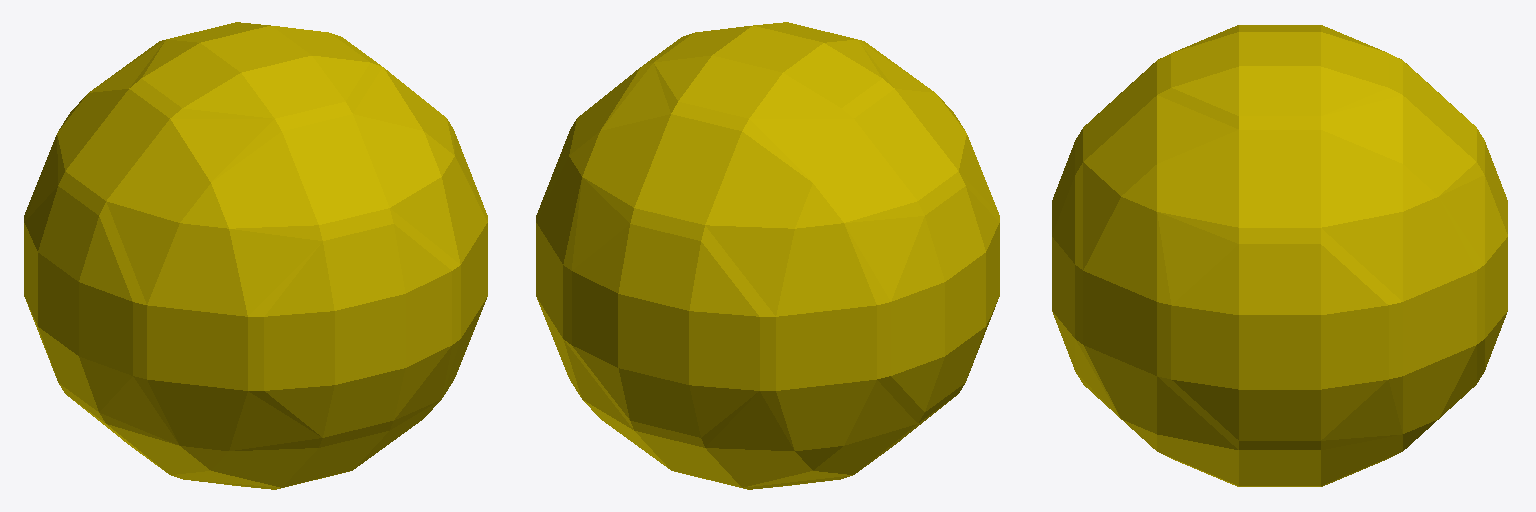
3 renders of one model, left to right at view 1: azimuth 30°, elevation 25°; view 2: azimuth 150°, elevation 25°; view 3: azimuth 270°, elevation 25°, orthographic.
Parts seen in each view (by area): view 1: Mball; view 2: Mball; view 3: Mball.
Part boxes in pixels (bbox=[...]): Mball: bbox=[24, 22, 487, 489]; Mball: bbox=[536, 22, 999, 489]; Mball: bbox=[1052, 25, 1507, 486].
Bounding box in the file's own units: 1.67 × 1.67 × 1.67.